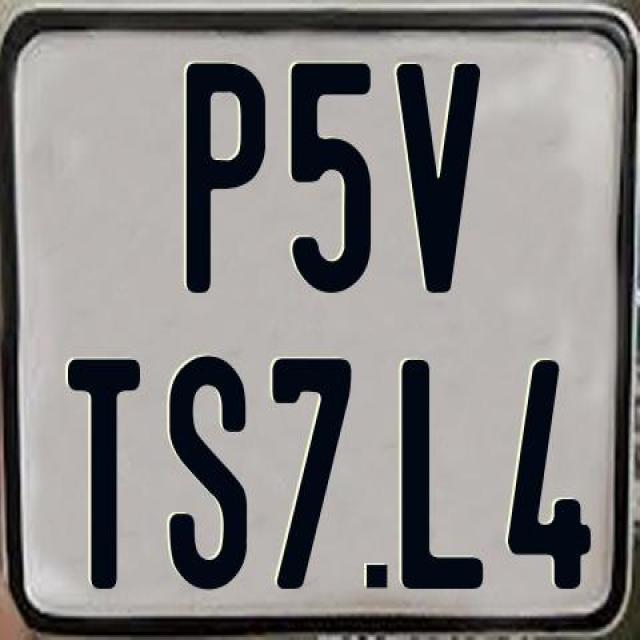4: (506, 356, 594, 594)
5: (288, 61, 372, 292)
7: (270, 357, 354, 592)
L: (401, 358, 487, 592)
P: (185, 58, 268, 292)
S: (168, 352, 249, 597)
T: (64, 355, 140, 592)
V: (397, 64, 480, 301)
